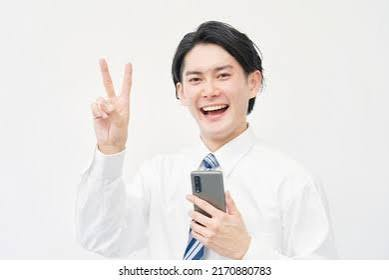peace_sign: (91, 54, 138, 144)
